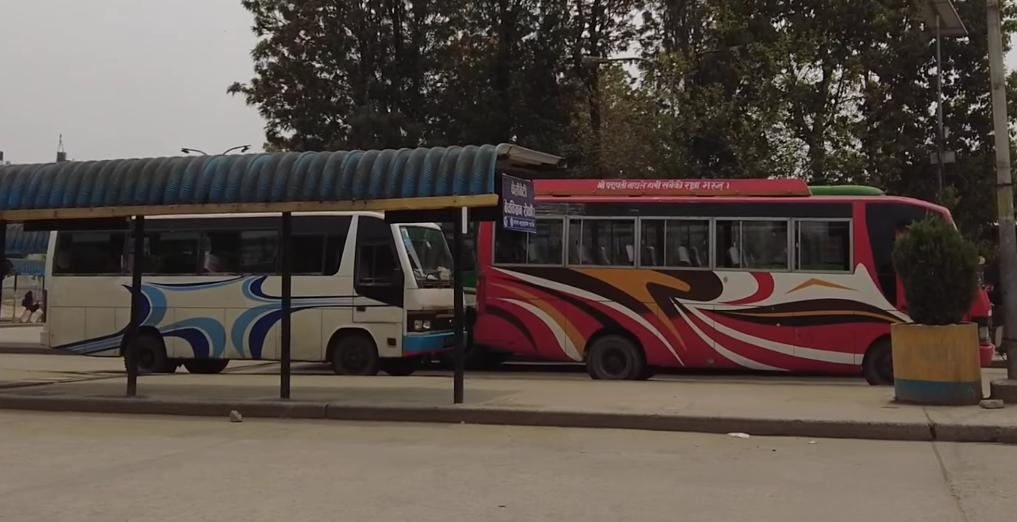bus: (470, 157, 999, 410), (41, 198, 471, 385)
